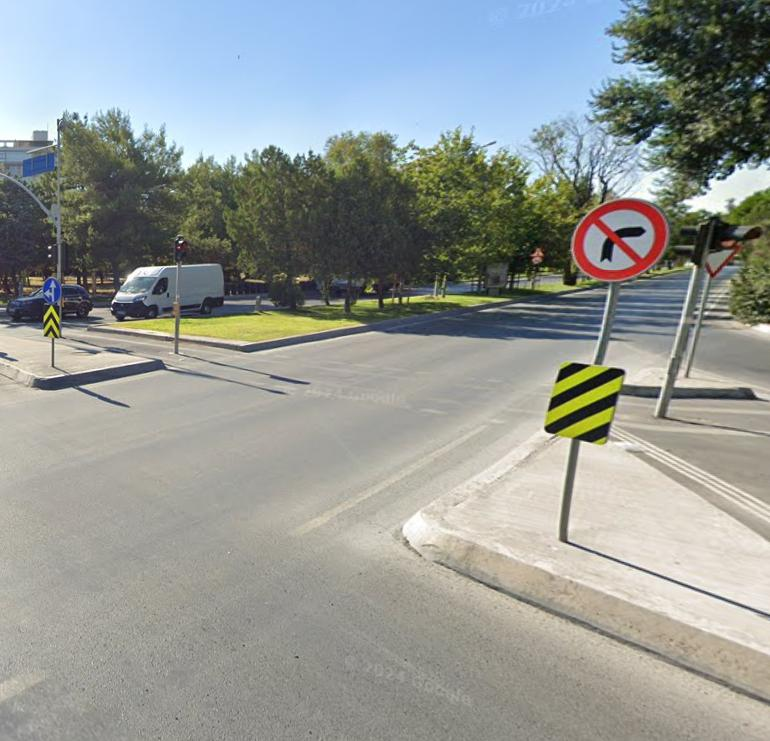rightturnsareforbidden: (573, 198, 668, 280)
